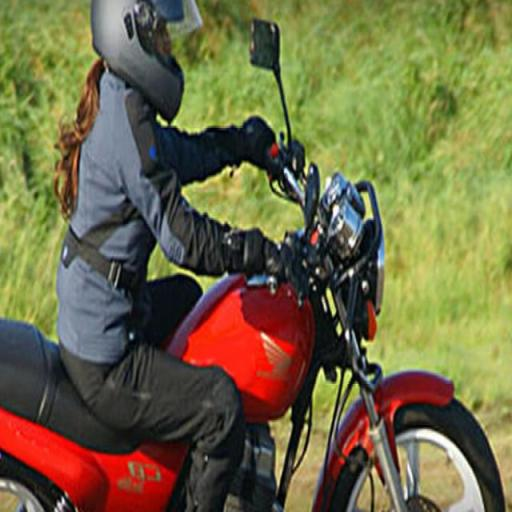Motor: (164, 116, 503, 511)
